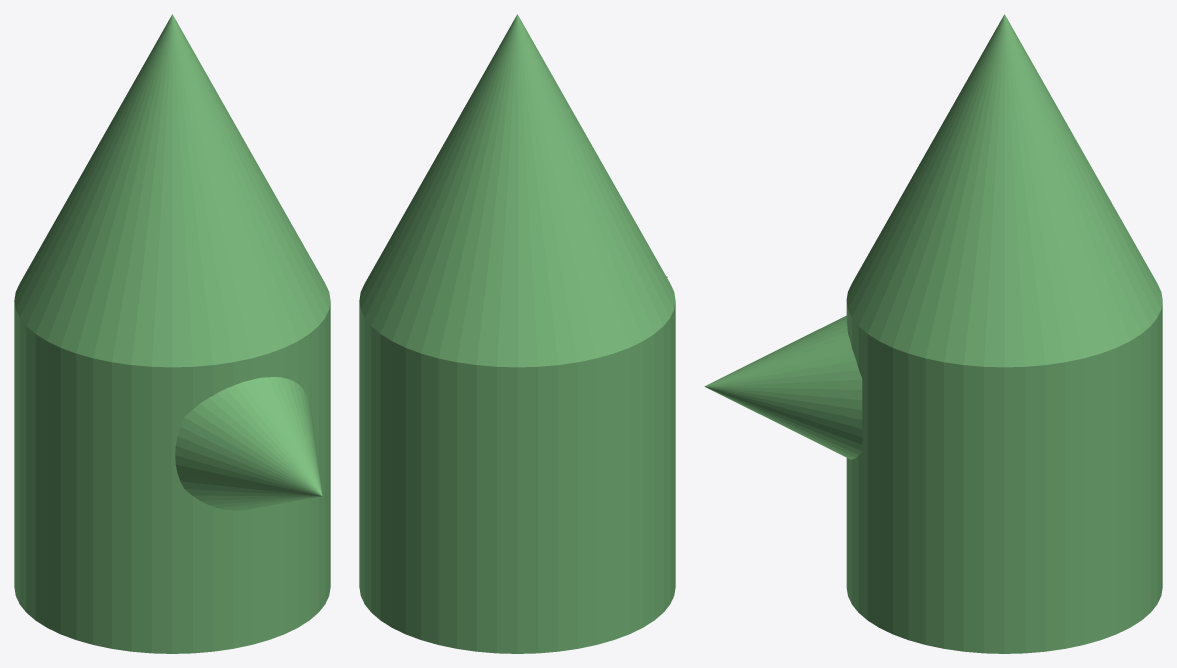
The model's file is nolok.glb.
The picture shows the model from 3 angles, left to right: view 1: azimuth 30°, elevation 25°; view 2: azimuth 150°, elevation 25°; view 3: azimuth 270°, elevation 25°; orthographic projection.
Parts seen in each view (by area): view 1: Mesh_Mesh_head_geo.001_lambert2SG.001; view 2: Mesh_Mesh_head_geo.001_lambert2SG.001; view 3: Mesh_Mesh_head_geo.001_lambert2SG.001.
Part boxes in pixels (bbox=[...]): Mesh_Mesh_head_geo.001_lambert2SG.001: bbox=[14, 14, 330, 653]; Mesh_Mesh_head_geo.001_lambert2SG.001: bbox=[359, 14, 675, 653]; Mesh_Mesh_head_geo.001_lambert2SG.001: bbox=[704, 14, 1162, 653].
Bounding box in the file's own units: 0.02 × 0.04 × 0.029.
